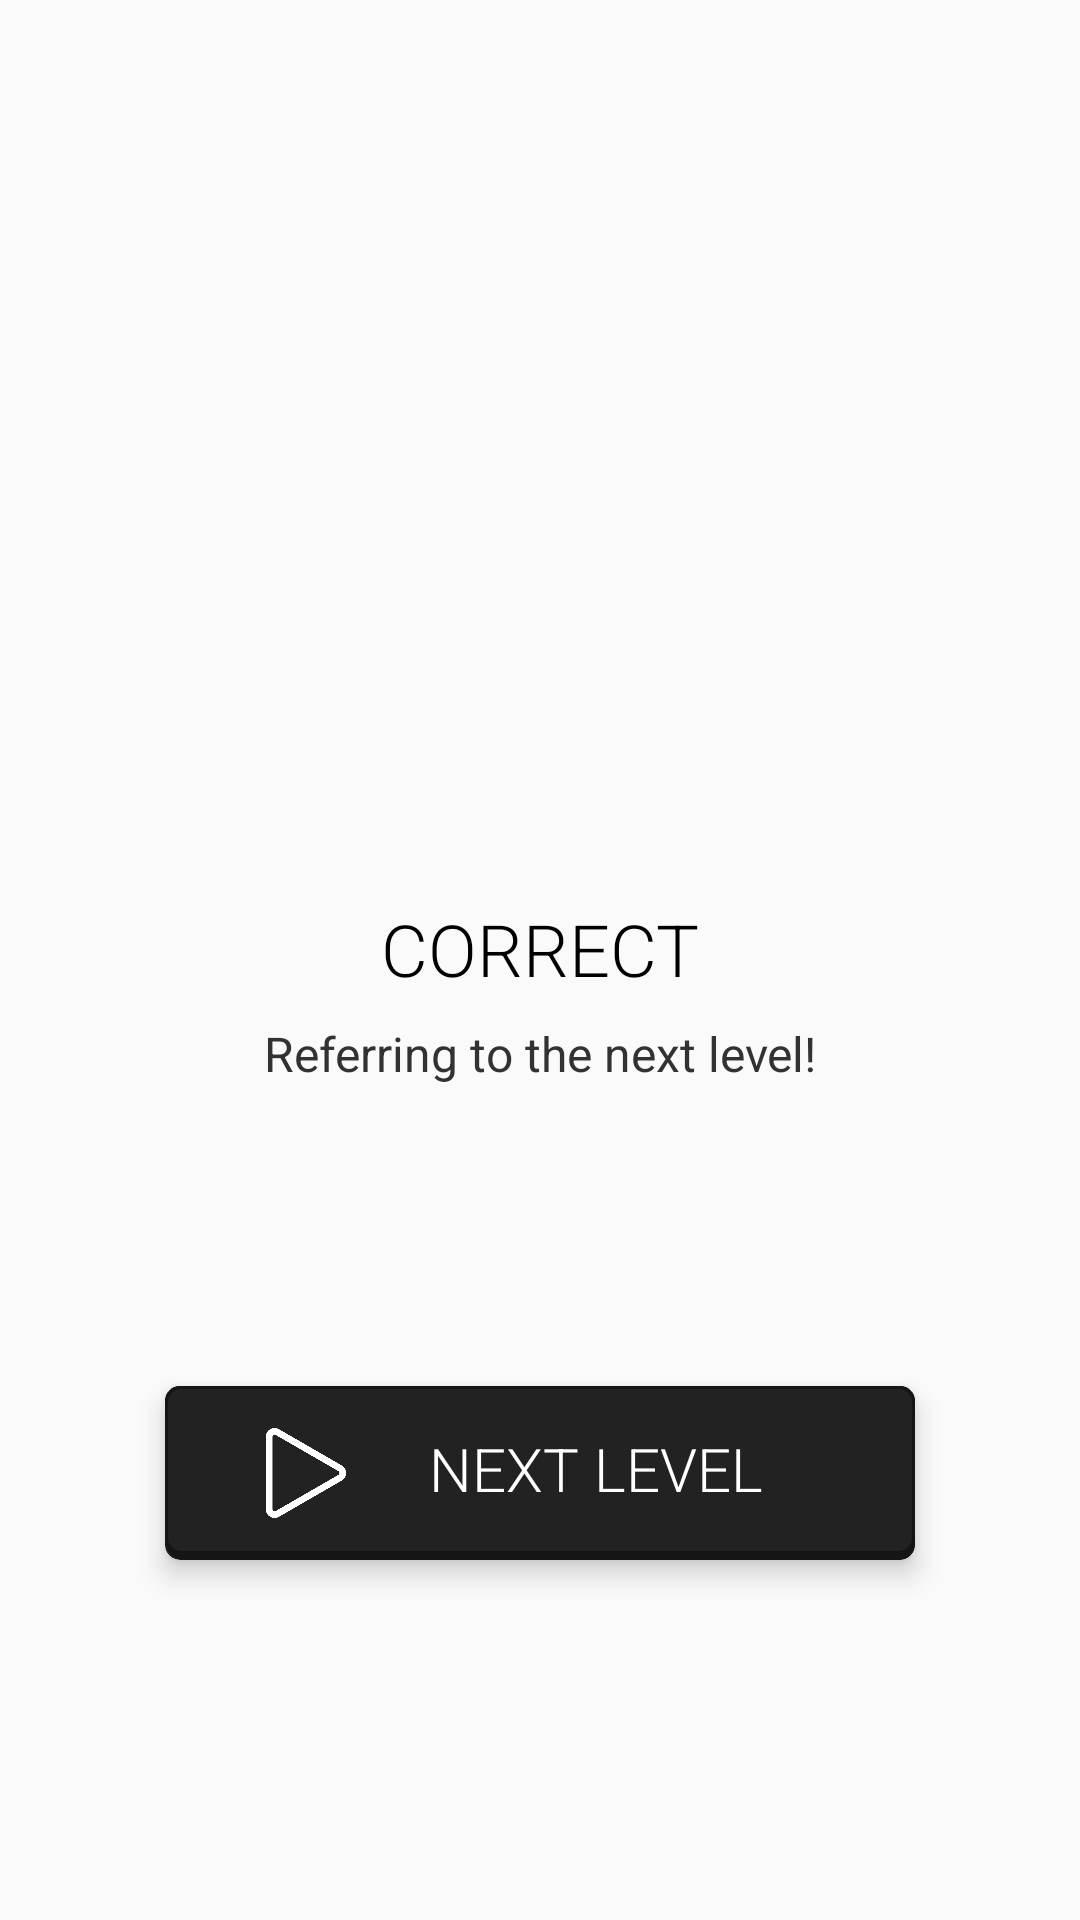

Locate icon controls on the screen. Image size 1080w x 1920h, boxes as (x1, y1, x2, y2).
play triangle: (266, 1428, 346, 1518)
